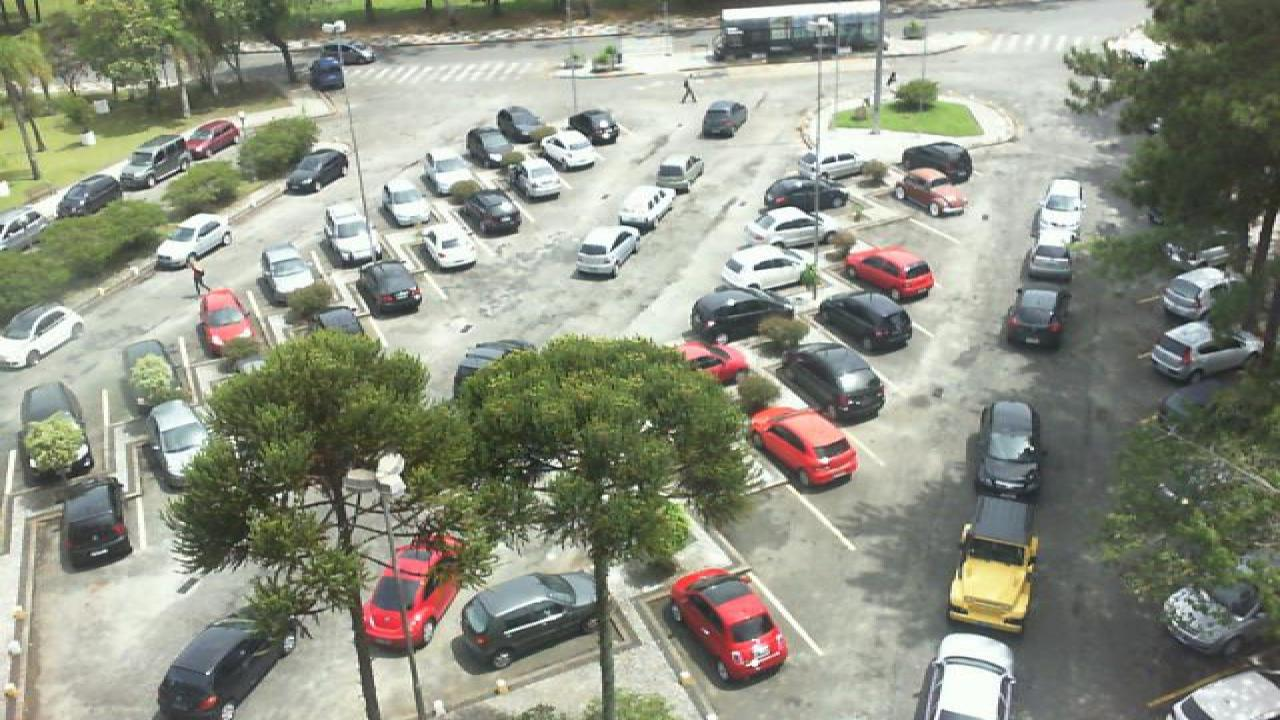Car: (450, 569, 604, 675), (668, 567, 790, 689), (354, 529, 466, 656), (944, 495, 1044, 631), (152, 617, 282, 720), (744, 404, 862, 492), (1158, 575, 1278, 657), (912, 632, 1020, 720), (782, 342, 888, 426), (56, 477, 136, 574), (1154, 372, 1258, 441), (972, 400, 1044, 498), (1148, 320, 1258, 384), (816, 288, 916, 356), (144, 398, 212, 494), (686, 287, 796, 342), (0, 304, 88, 371), (844, 243, 938, 305), (1166, 669, 1280, 720), (714, 242, 814, 292), (192, 285, 258, 360), (156, 213, 232, 272), (1002, 286, 1070, 351), (744, 205, 834, 253), (20, 381, 92, 439), (1158, 267, 1230, 325), (452, 340, 534, 390), (356, 259, 426, 317), (120, 139, 196, 189), (674, 337, 750, 386), (896, 169, 972, 217), (574, 223, 638, 278), (898, 140, 974, 186), (1028, 178, 1084, 240), (258, 243, 320, 298), (324, 213, 382, 270), (760, 176, 846, 214), (284, 146, 350, 195), (866, 204, 942, 246), (458, 190, 524, 238), (54, 174, 124, 218), (418, 226, 482, 272), (616, 183, 676, 232), (1022, 233, 1076, 282), (380, 179, 434, 227), (510, 156, 566, 202), (420, 152, 476, 197), (538, 128, 598, 169), (184, 117, 242, 159), (796, 151, 868, 183), (0, 210, 52, 252), (462, 128, 516, 168), (494, 106, 550, 143), (566, 107, 620, 145), (698, 100, 750, 138), (656, 152, 706, 190), (306, 41, 376, 64), (308, 55, 348, 90)
